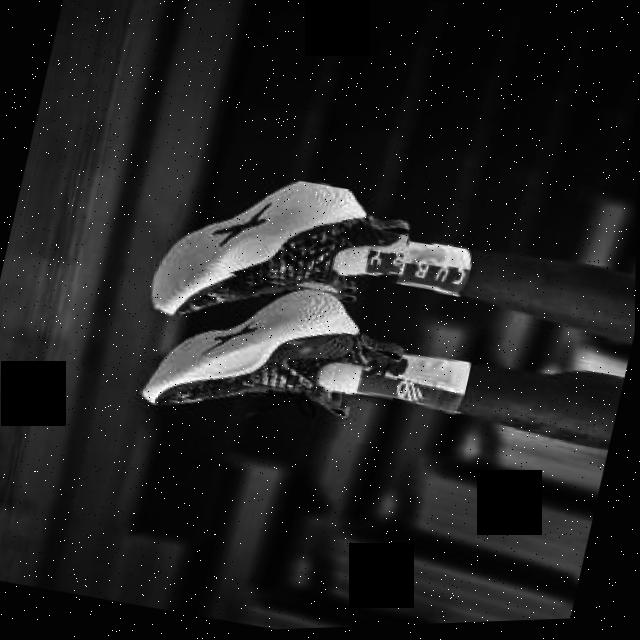shoe: (145, 154, 418, 363), (137, 256, 415, 457)
